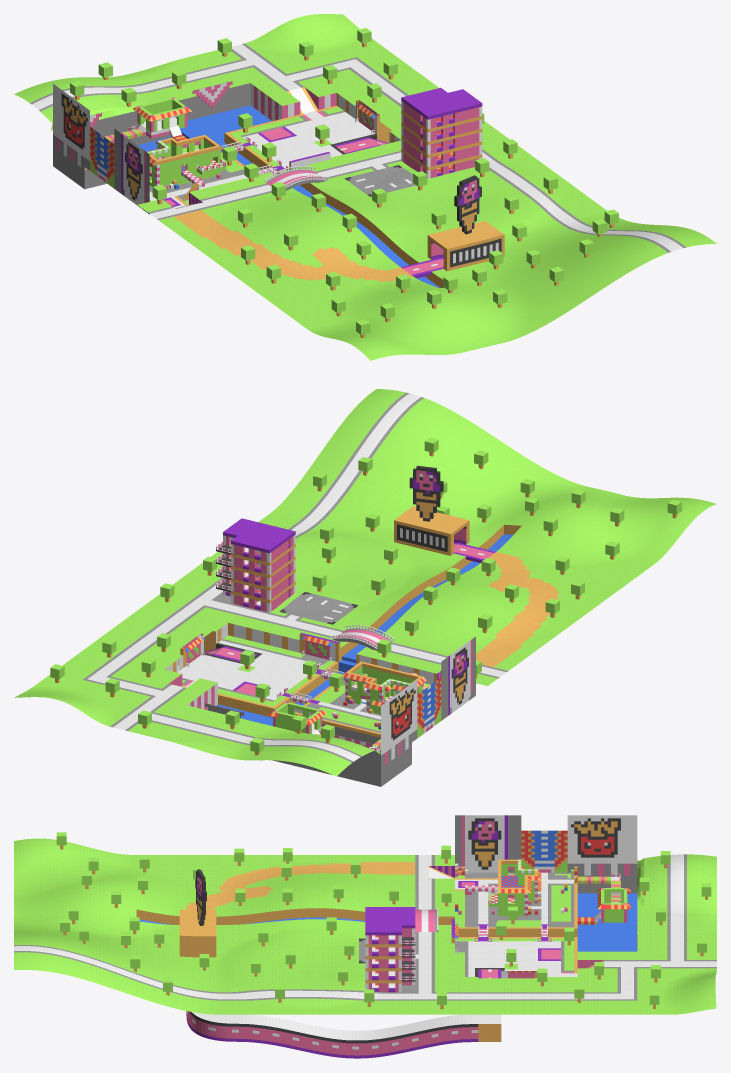
Rendered from test_map.fbx.
3 views of the same model, one above another, from view 1: azimuth 30°, elevation 25°; view 2: azimuth 150°, elevation 25°; view 3: azimuth 270°, elevation 25° (orthographic). The views are drawn at different scales.
Parts seen in each view (by area): view 1: main.001, main.000, main.006, main.002; view 2: main.001, main.000, main.006, main.002; view 3: main.001, main.000, main.004, main.006, main.002.
Part boxes in pixels (x1=…): main.001: x1=53, y1=46, x2=716, y2=360; main.000: x1=14, y1=14, x2=381, y2=130; main.006: x1=70, y1=28, x2=618, y2=337; main.002: x1=401, y1=87, x2=482, y2=178; main.001: x1=48, y1=389, x2=716, y2=786; main.000: x1=14, y1=676, x2=380, y2=776; main.006: x1=50, y1=437, x2=681, y2=755; main.002: x1=216, y1=518, x2=295, y2=612; main.001: x1=14, y1=815, x2=647, y2=1041; main.000: x1=637, y1=854, x2=716, y2=1014; main.004: x1=186, y1=1011, x2=478, y2=1058; main.006: x1=56, y1=832, x2=711, y2=1009; main.002: x1=365, y1=907, x2=415, y2=992.
Size of the model in its own units: 11400 by 4042 by 21200.
